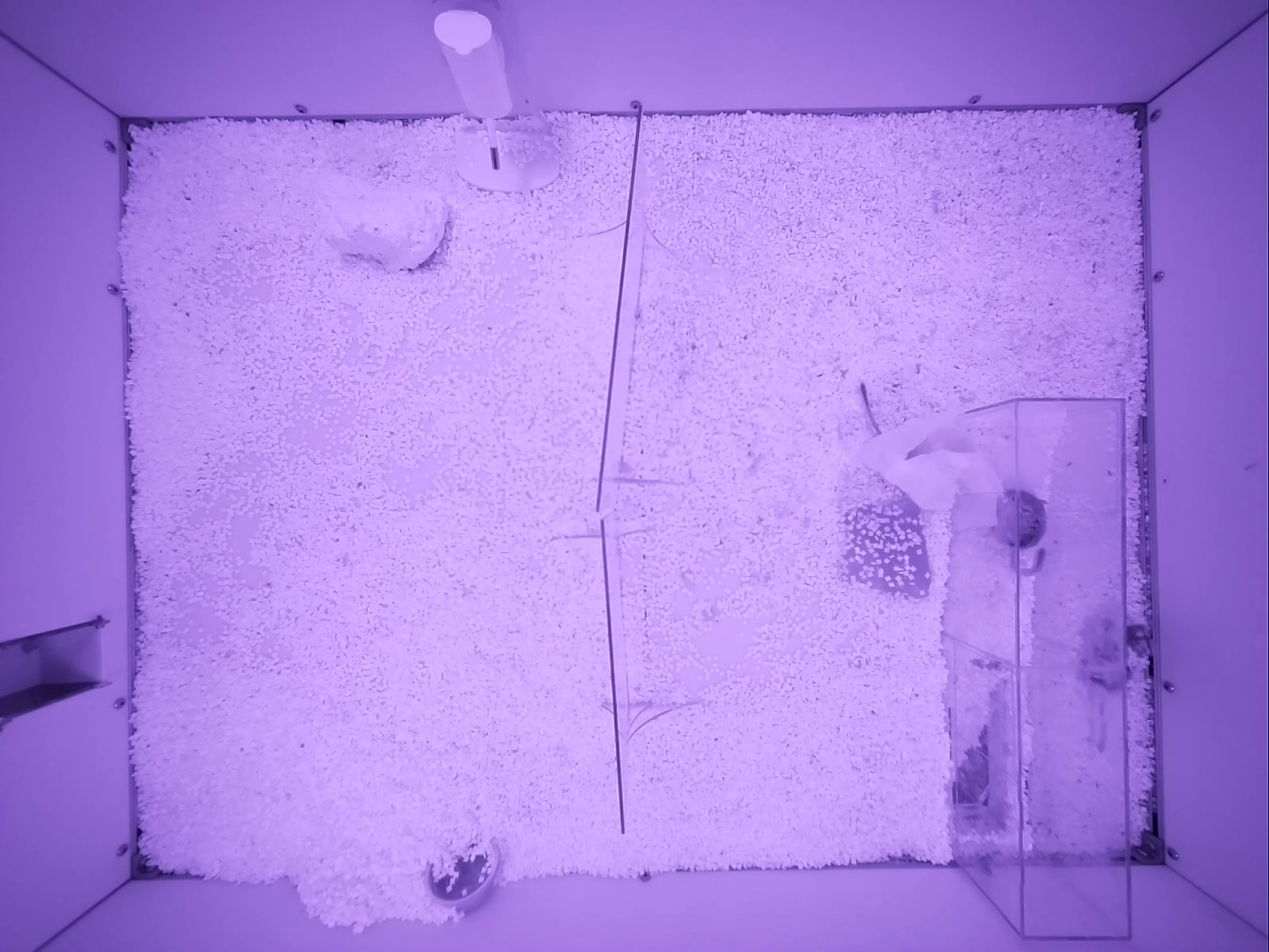adult_back: (1079, 613, 1150, 751), (994, 489, 1047, 576)
